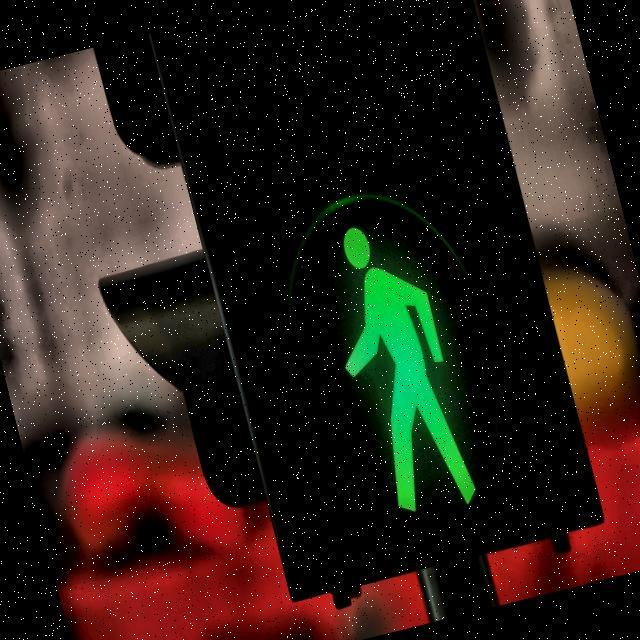green_light: (302, 205, 488, 534)
